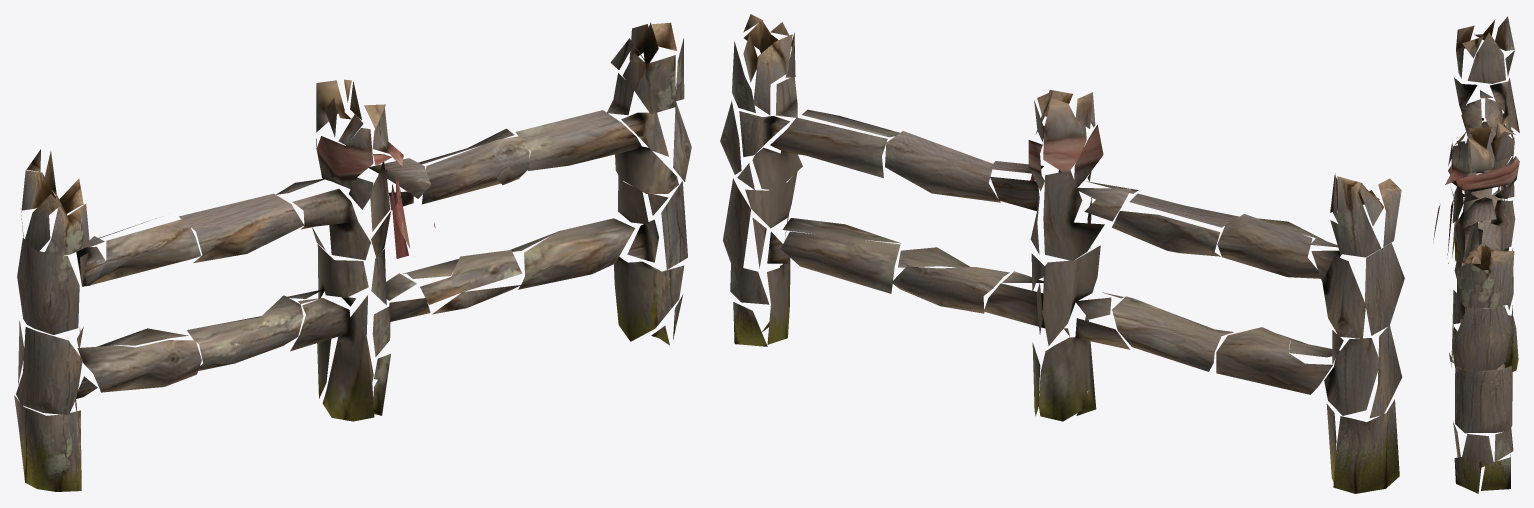
The model's file is fence.glb.
3 views of the same model, side by side, from view 1: azimuth 30°, elevation 25°; view 2: azimuth 150°, elevation 25°; view 3: azimuth 270°, elevation 25° (orthographic). The views are drawn at different scales.
Visible parts, largest first — view 1: tripo_node_ccbb112a-ed37-47ac-b893-73d39e98187d; view 2: tripo_node_ccbb112a-ed37-47ac-b893-73d39e98187d; view 3: tripo_node_ccbb112a-ed37-47ac-b893-73d39e98187d.
Boxes of the visible parts, x1,y1,x2,y2 form: tripo_node_ccbb112a-ed37-47ac-b893-73d39e98187d: [14, 22, 691, 491]; tripo_node_ccbb112a-ed37-47ac-b893-73d39e98187d: [720, 14, 1404, 493]; tripo_node_ccbb112a-ed37-47ac-b893-73d39e98187d: [1433, 16, 1519, 493].
Size of the model in its own units: 2.53 by 1.2 by 0.3752.
Materials: 1 (1 with a texture image).
